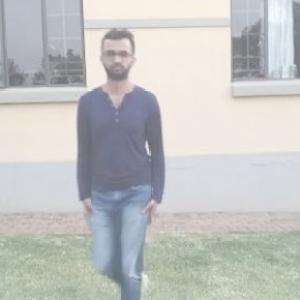follow: (70, 29, 162, 299)
